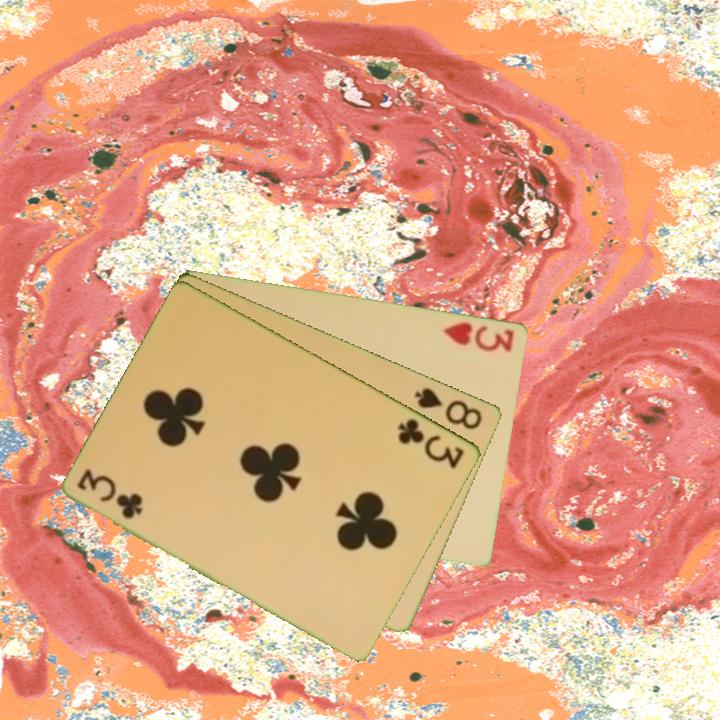3c: (394, 414, 468, 472), (73, 466, 146, 522)
3h: (440, 318, 517, 355)
8s: (411, 383, 486, 432)
